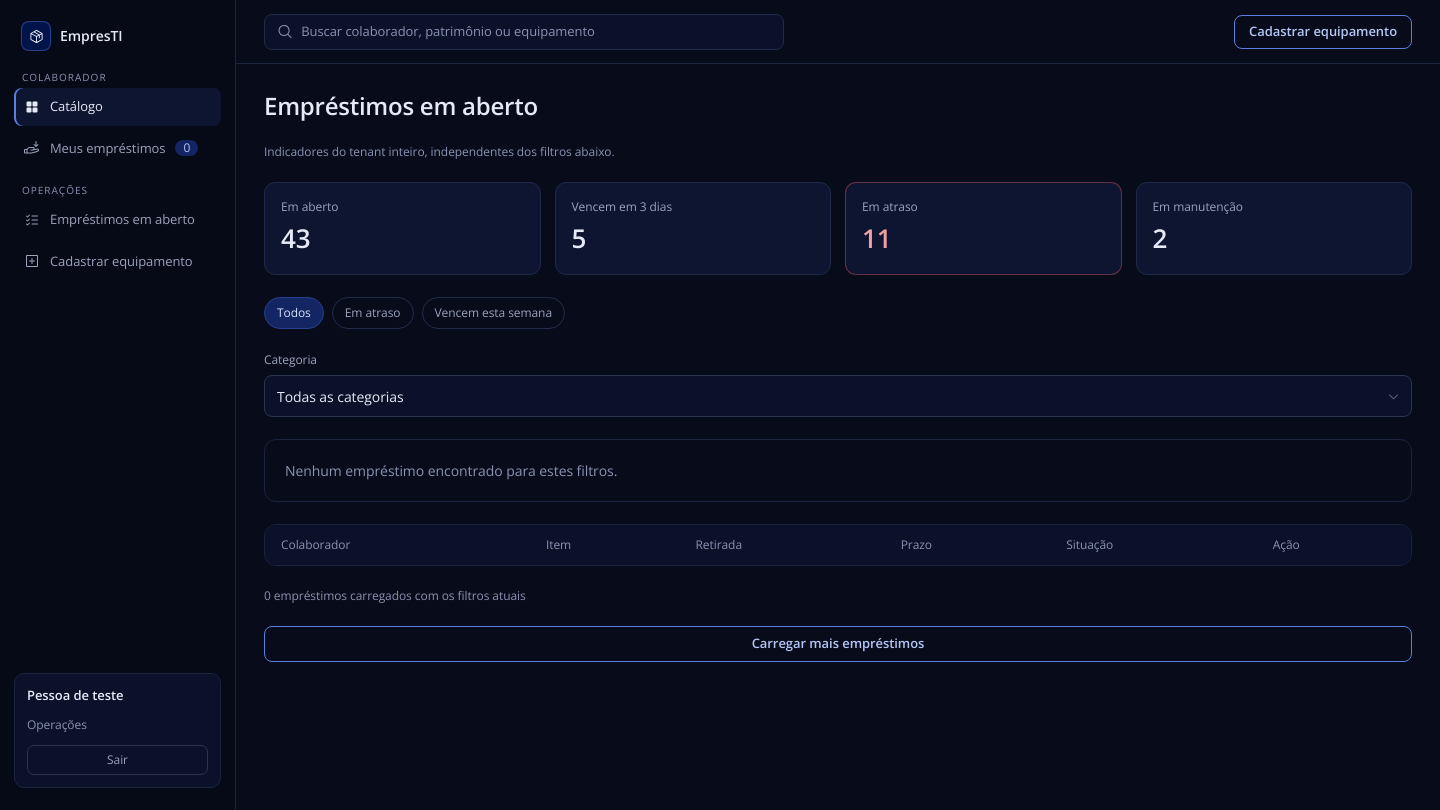
Test: test_ca_04_spec005_atraso_categoria_busca_independentes_com_cursor_e_kpis_globais
Click the button "Em atraso": (373, 313) [332,297,414,329]
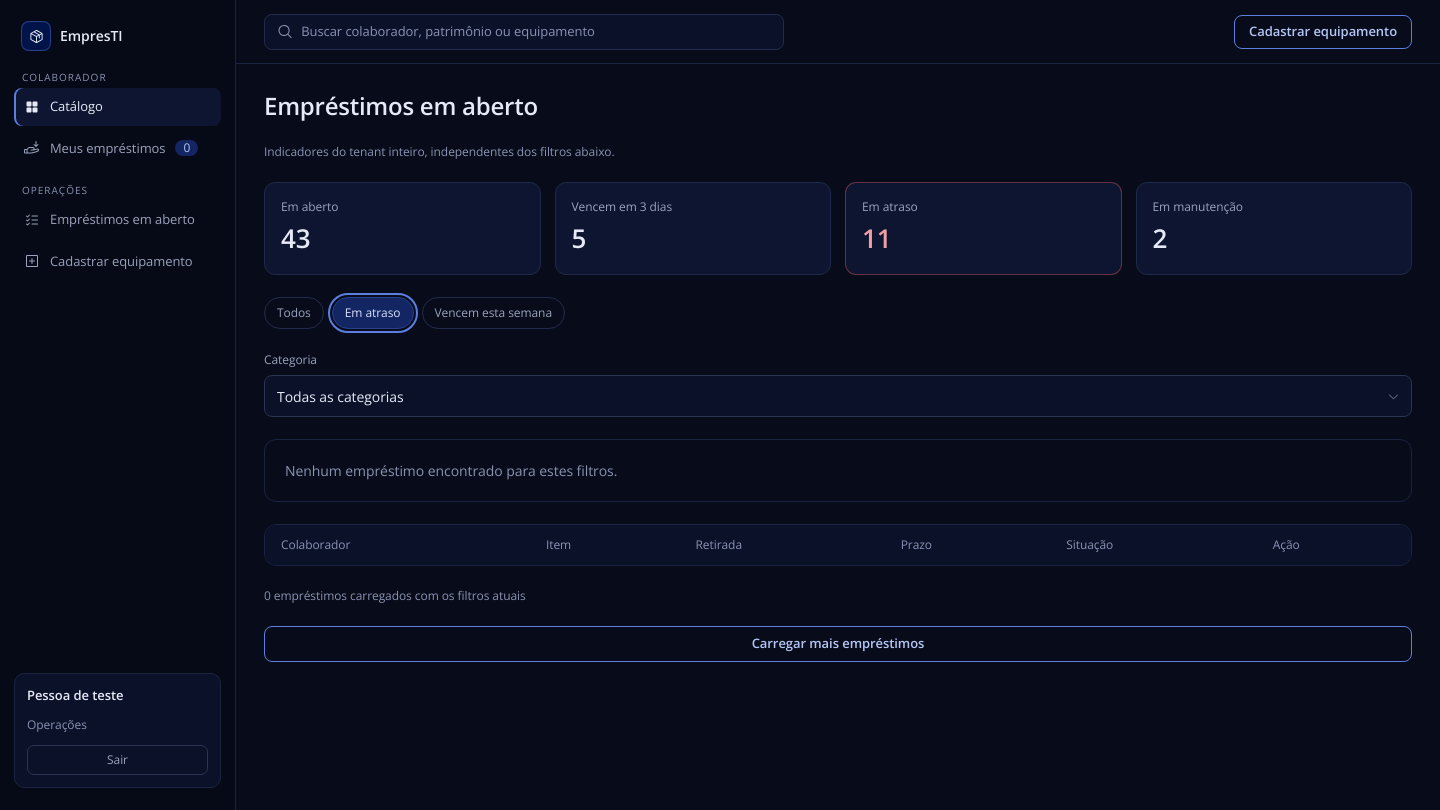
Select "Notebooks" in the dropdown labelled "Categoria": (838, 396) [264,375,1412,417]
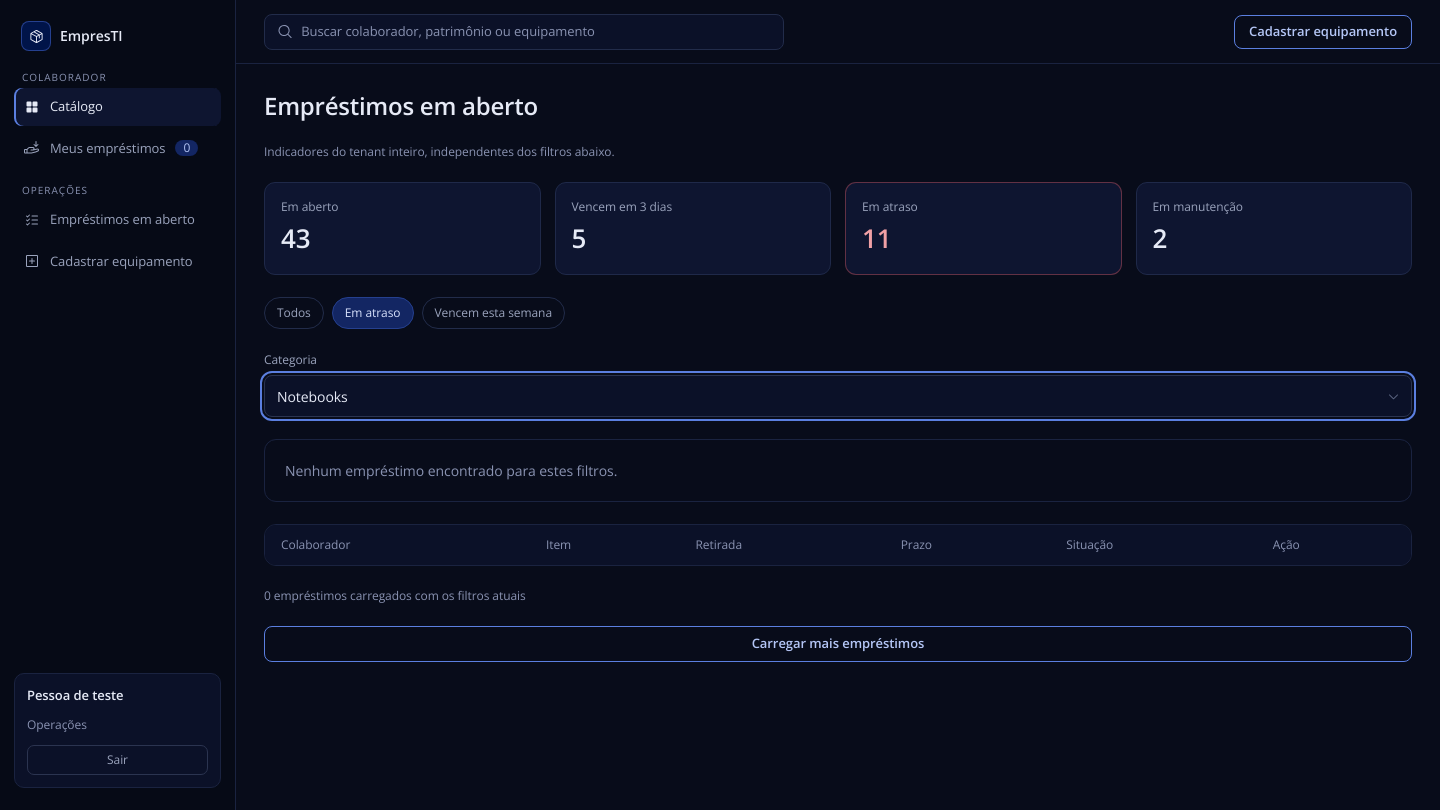
In the field labelled "Buscar": (536, 32) [301,22,771,41], type "TI-0001"
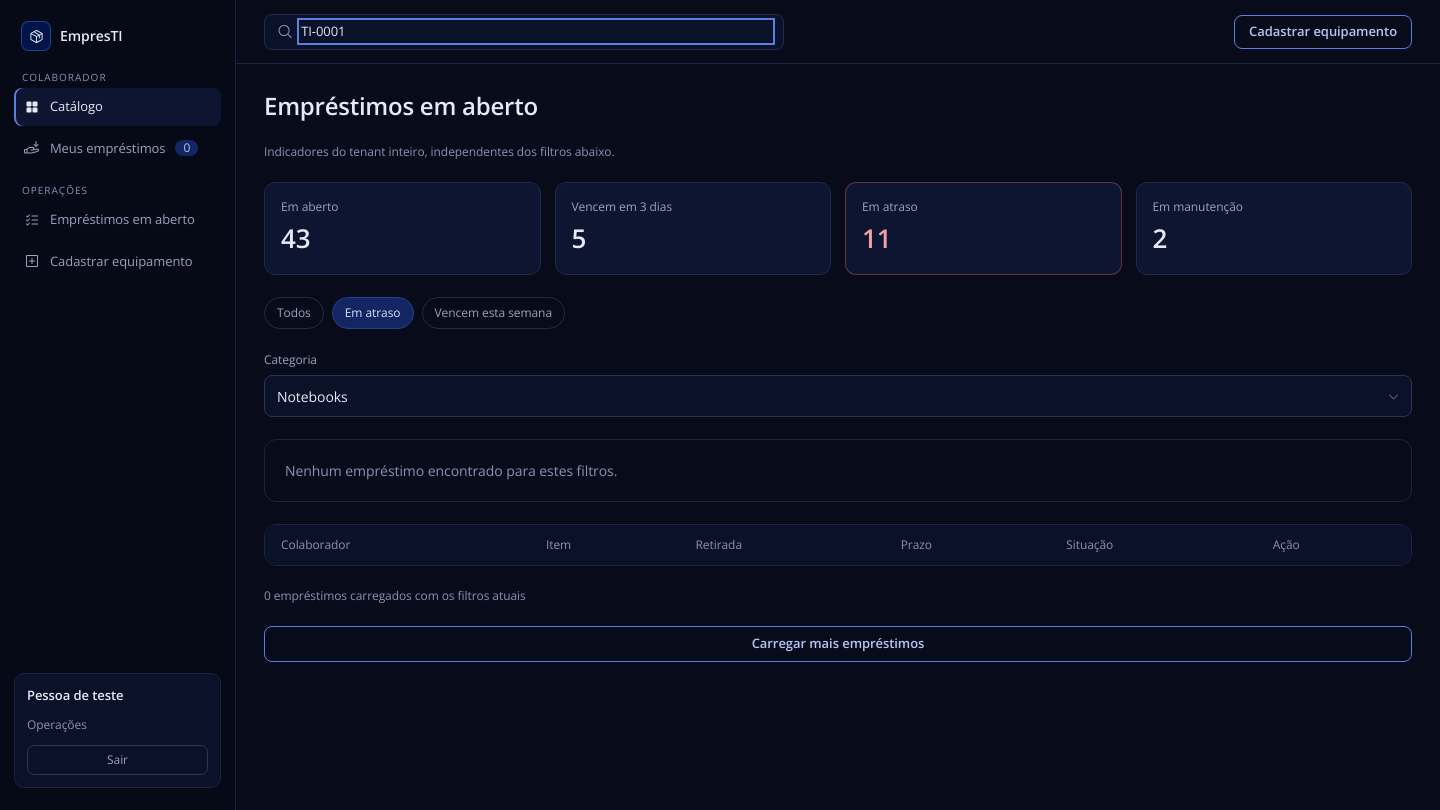
Click the button "Carregar mais empréstimos": (838, 644) [264,626,1412,662]
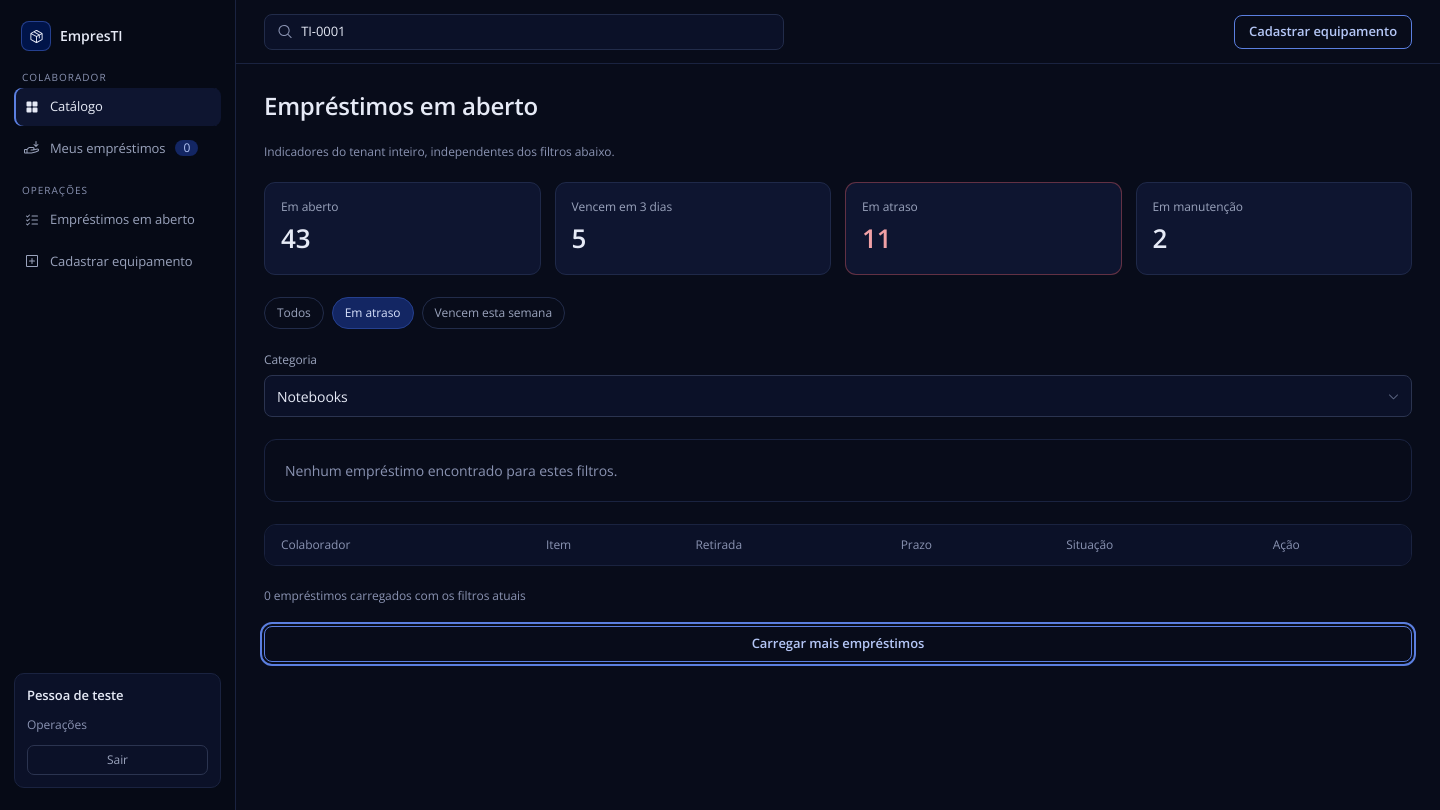
Select "Monitores" in the dropdown labelled "Categoria": (838, 396) [264,375,1412,417]
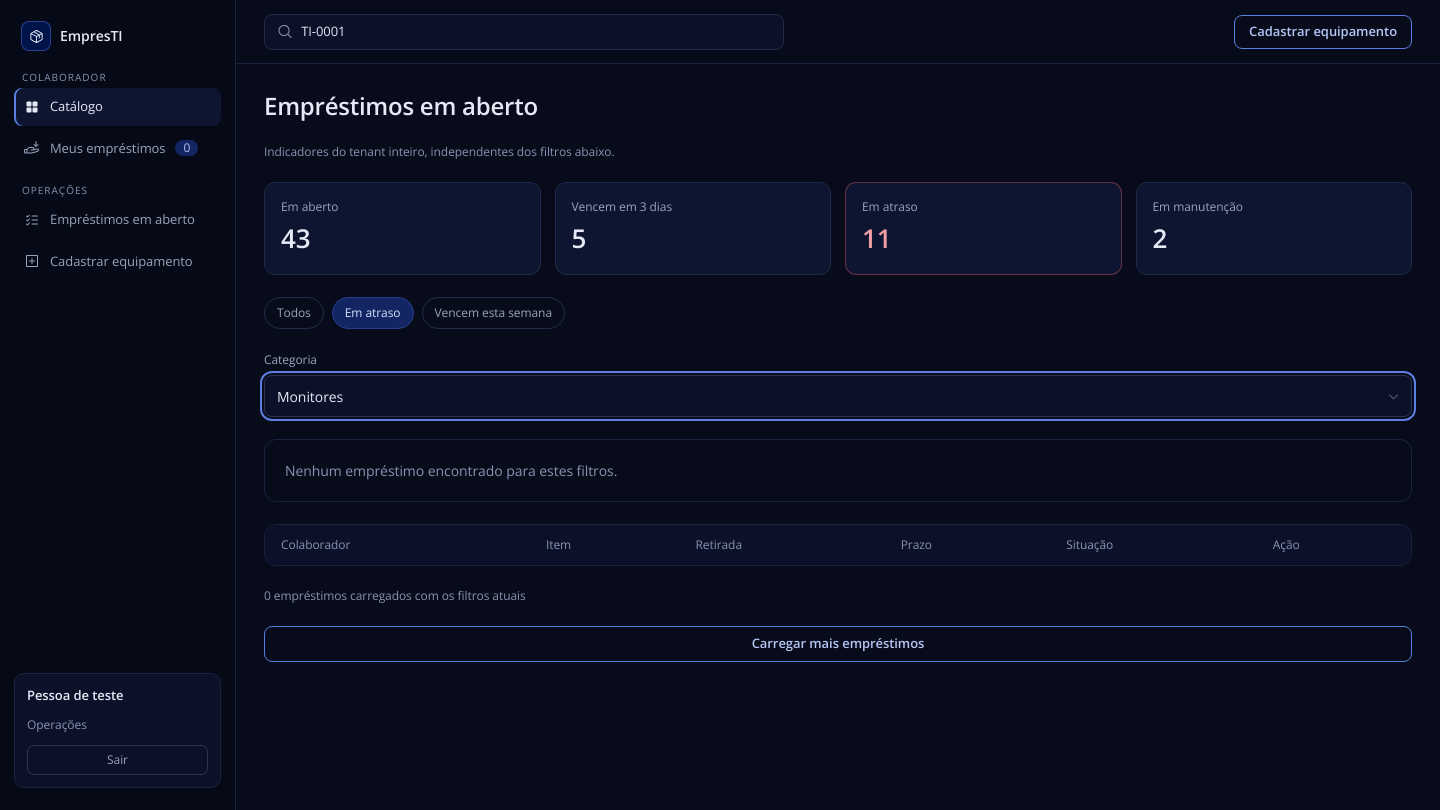
Expected: the text "43" is shown, [281,220,311,256]
Expected: the button "Em atraso" is pressed, [332,297,414,329]
